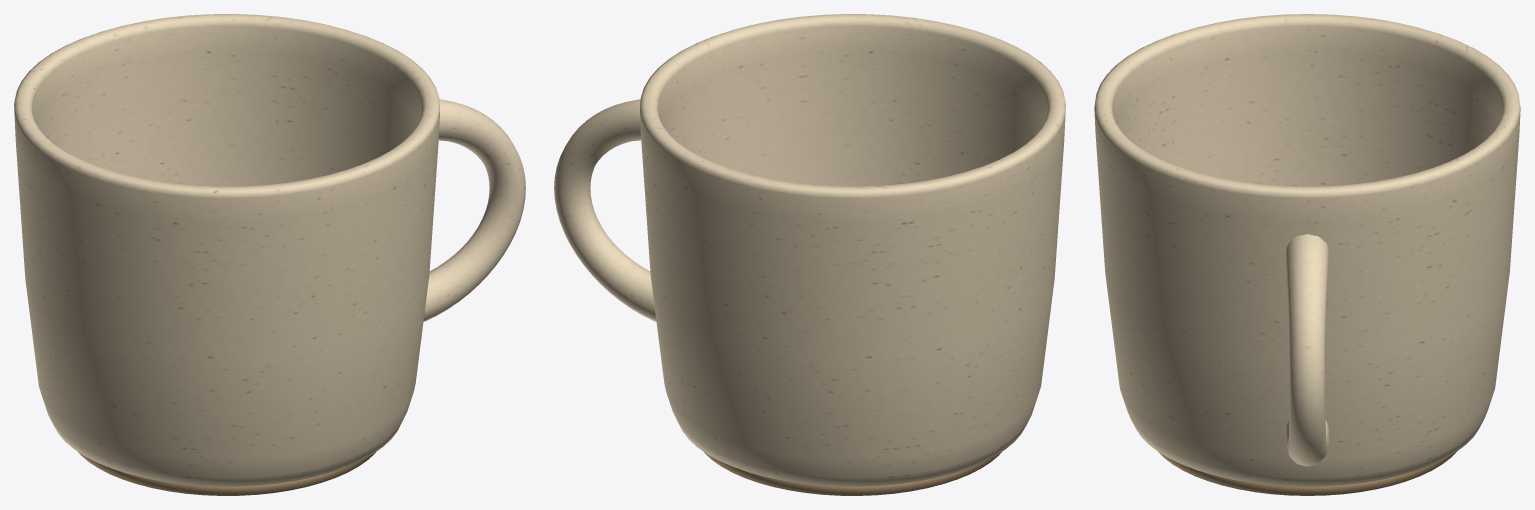
File: cup.glb
3 renders of one model, left to right at view 1: azimuth 30°, elevation 25°; view 2: azimuth 150°, elevation 25°; view 3: azimuth 270°, elevation 25°, orthographic.
Visible parts, largest first — view 1: cup; view 2: cup; view 3: cup.
Part boxes in pixels (x1,y1,x2,y2): cup: (14,14,525,495); cup: (554,14,1065,495); cup: (1094,14,1520,495).
Bounding box in the file's own units: 0.0977 × 0.064 × 0.075.
2 materials, 1 textured.
